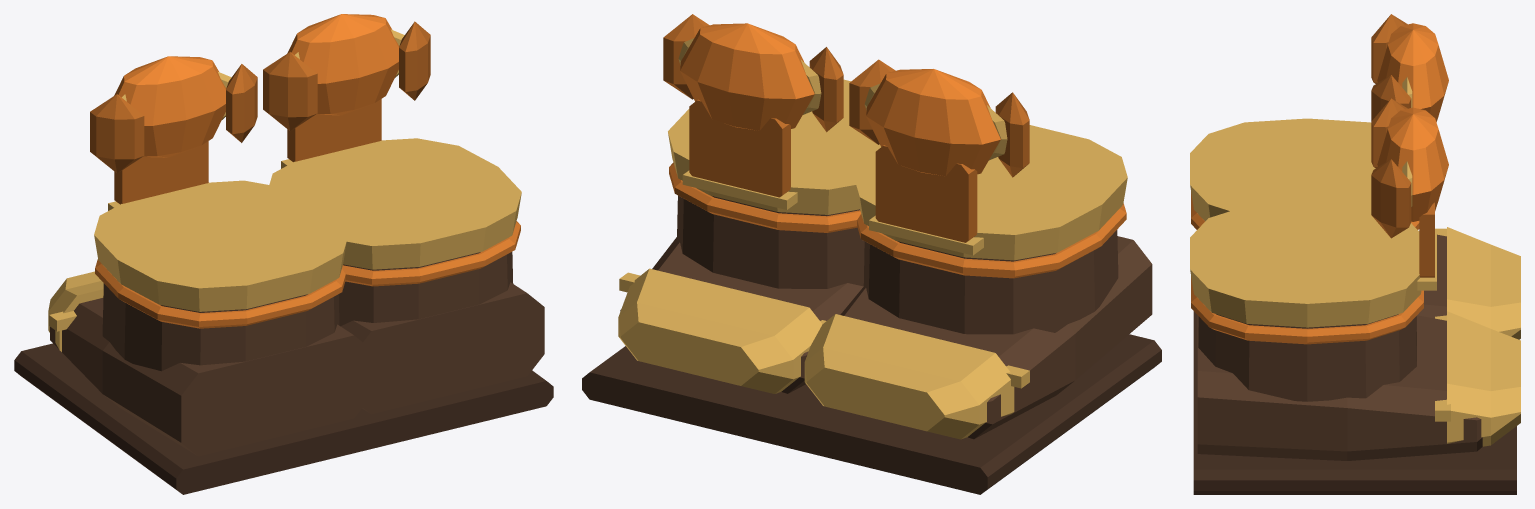
Rendered from look3_shoes_dualblade_legendary.fbx.
3 renders of one model, left to right at view 1: azimuth 30°, elevation 25°; view 2: azimuth 150°, elevation 25°; view 3: azimuth 270°, elevation 25°, orthographic. The views are drawn at different scales.
Visible parts, largest first — view 1: Greave_L, Greave_R, Boot_L, Boot_R; view 2: Greave_L, Boot_L, Greave_R, Boot_R; view 3: Greave_R, Boot_R, Greave_L, Boot_L.
Boxes of the visible parts, x1=… form: Greave_L: x1=90, y1=56, x2=347, y2=371; Greave_R: x1=263, y1=14, x2=521, y2=326; Boot_L: x1=14, y1=271, x2=380, y2=494; Boot_R: x1=341, y1=282, x2=553, y2=448; Greave_L: x1=849, y1=59, x2=1127, y2=334; Boot_L: x1=768, y1=236, x2=1161, y2=494; Greave_R: x1=663, y1=14, x2=880, y2=288; Boot_R: x1=582, y1=237, x2=863, y2=449; Greave_R: x1=1190, y1=98, x2=1448, y2=401; Boot_R: x1=1193, y1=311, x2=1520, y2=494; Greave_L: x1=1190, y1=14, x2=1448, y2=229; Boot_L: x1=1193, y1=227, x2=1520, y2=384.
Size of the model in its own units: 220 by 185 by 166.
